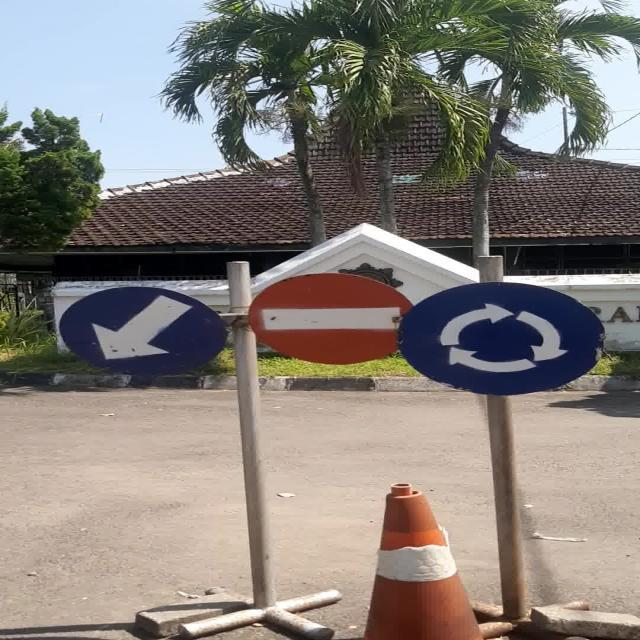Ikuti Bundaran: (398, 282, 606, 396)
Lajur Kiri: (58, 286, 229, 375)
